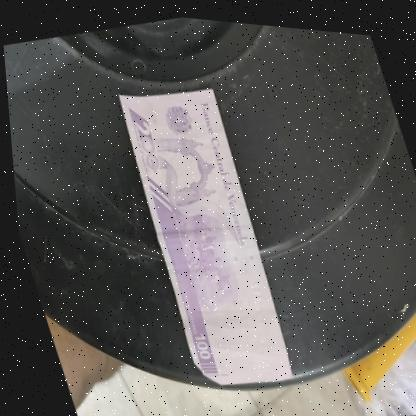one_hundred-back-vef: (103, 68, 302, 398)
